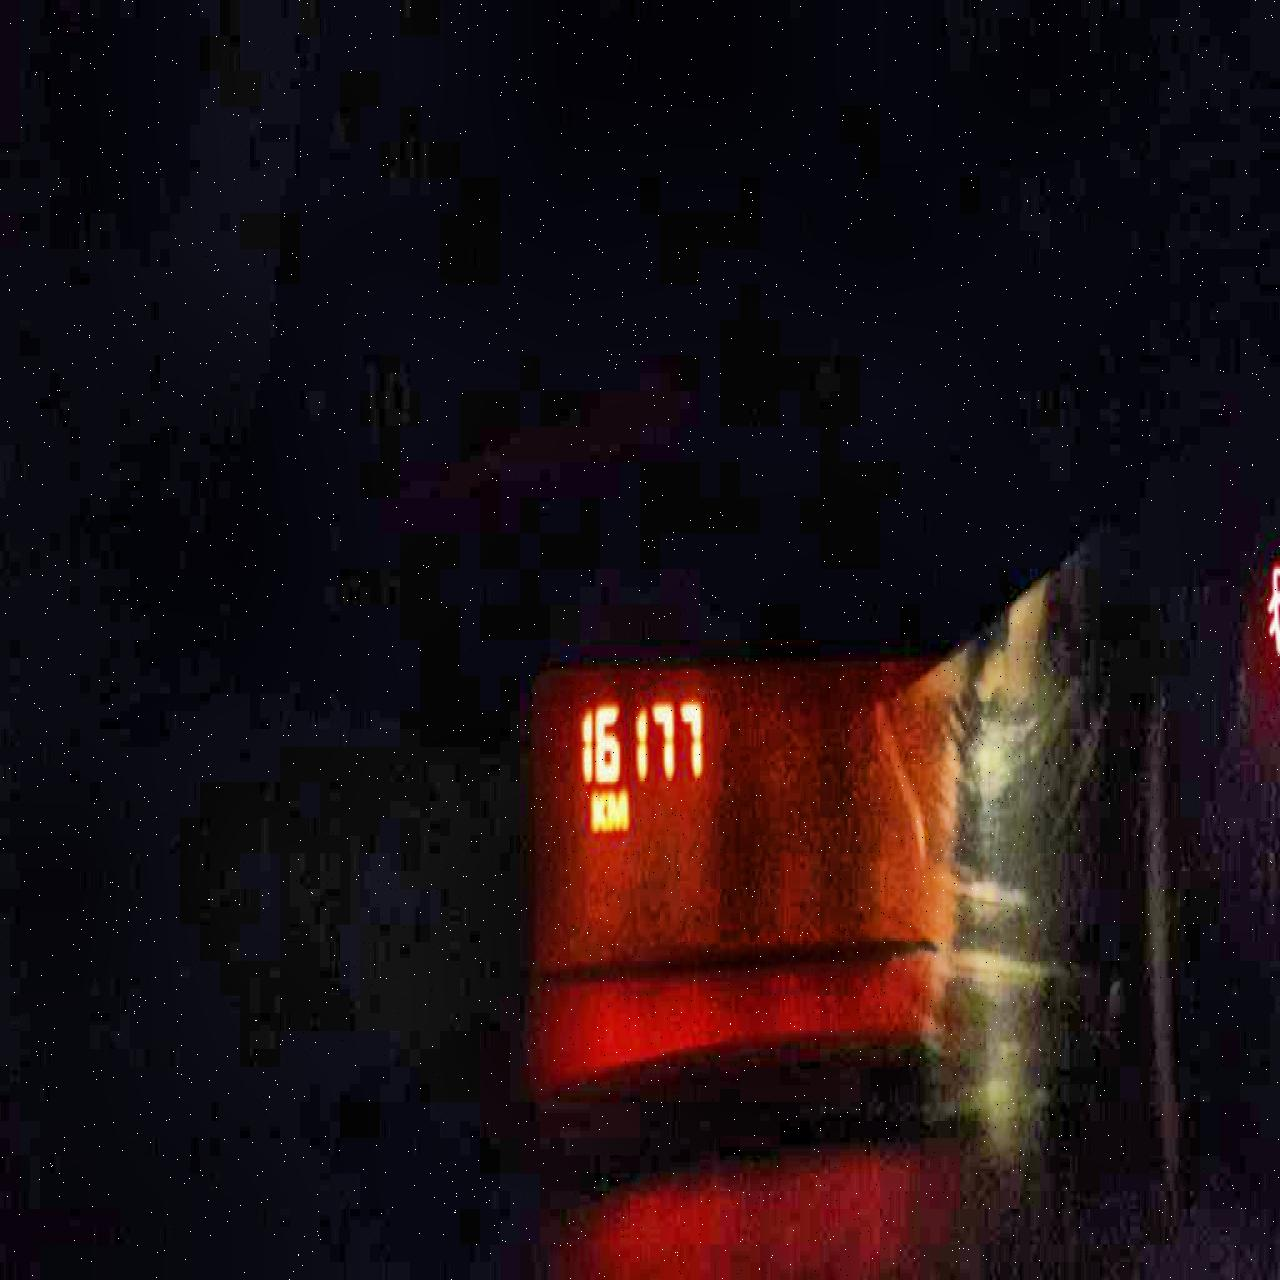1: (633, 704, 647, 783), (579, 707, 592, 784)
6: (592, 700, 620, 782)
7: (651, 700, 675, 779), (679, 697, 701, 778)
X: (606, 787, 627, 829), (588, 787, 606, 833)
odometer: (525, 649, 959, 980)
